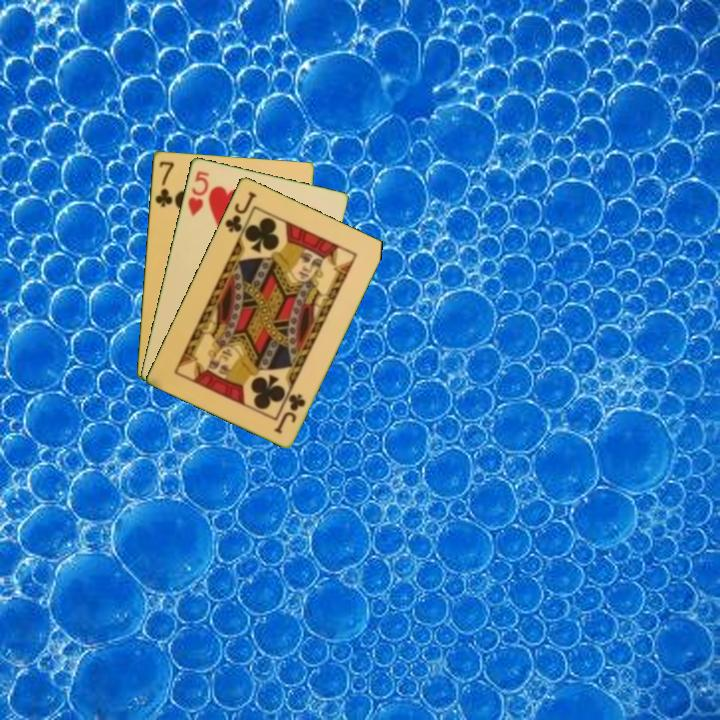5h: (184, 167, 212, 219)
7c: (151, 157, 176, 209)
Jc: (221, 188, 259, 235), (271, 390, 308, 436)
